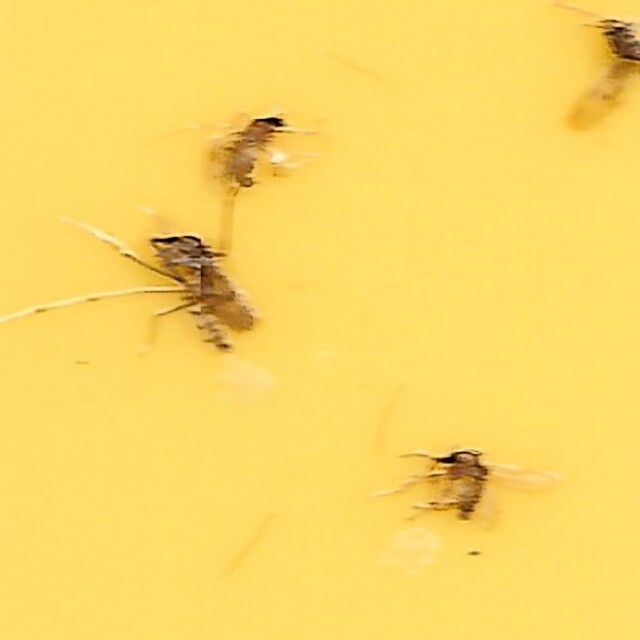Nematocera: (138, 220, 270, 368), (385, 440, 502, 536), (209, 104, 311, 199)
